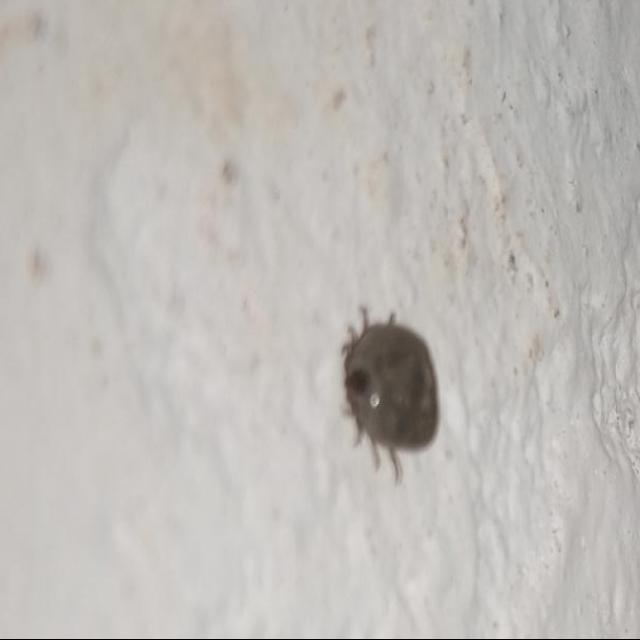Rhipicephalus Sanguineus-F-Fed: (342, 311, 443, 468)
